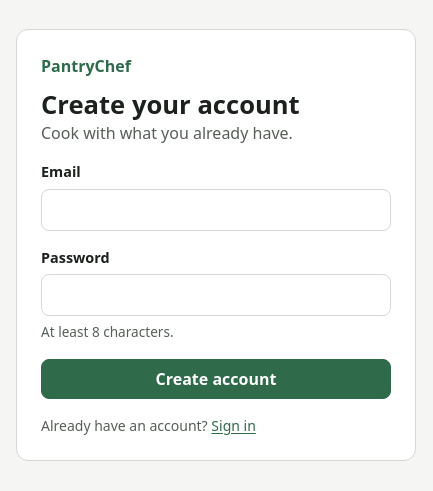
Test: sign in › registration field errors appear under their fields
The width and height of the screenshot is (433, 491).
Step 1. Type "cook@example.com" into the field labelled "Email" → (216, 210), box [41,189,391,231]
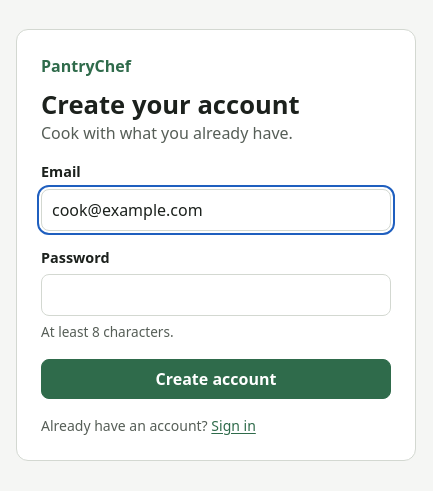
Step 2. Type "short" into the password field labelled "Password" → (216, 295), box [41,274,391,316]
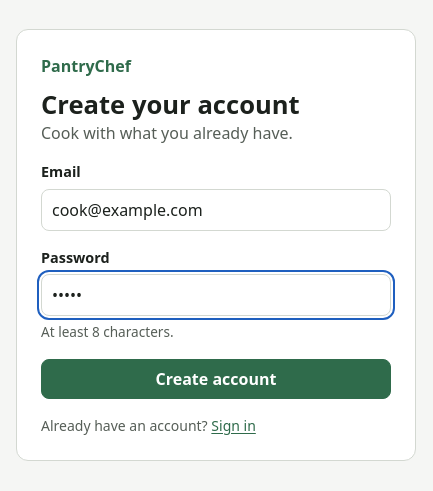
Step 3. Click the button "Create account" → (216, 379), box [41,359,391,399]
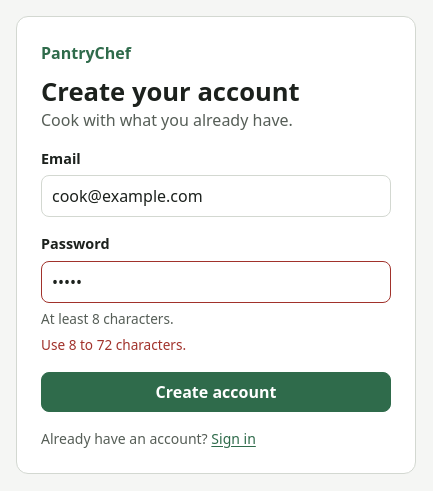
Expected: the text "Use 8 to 72 characters." is shown, [41,336,186,354]
